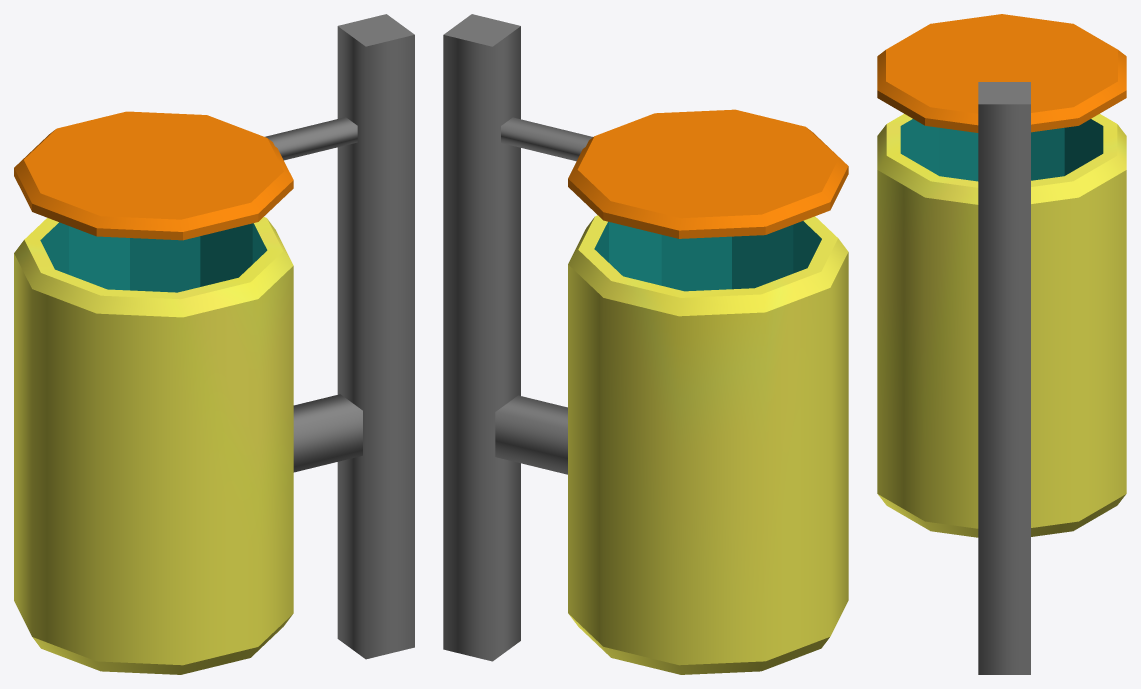
The model's file is SM_City_Bin2.fbx.
3 renders of one model, left to right at view 1: azimuth 30°, elevation 25°; view 2: azimuth 150°, elevation 25°; view 3: azimuth 270°, elevation 25°, orthographic. The views are drawn at different scales.
Visible parts, largest first — view 1: SM_City_Bin2; view 2: SM_City_Bin2; view 3: SM_City_Bin2.
Part boxes in pixels (x1,y1,x2,y2): SM_City_Bin2: [14, 14, 414, 674]; SM_City_Bin2: [443, 14, 848, 674]; SM_City_Bin2: [877, 14, 1126, 674].
Size of the model in its own units: 40.85 by 64.63 by 25.56.
